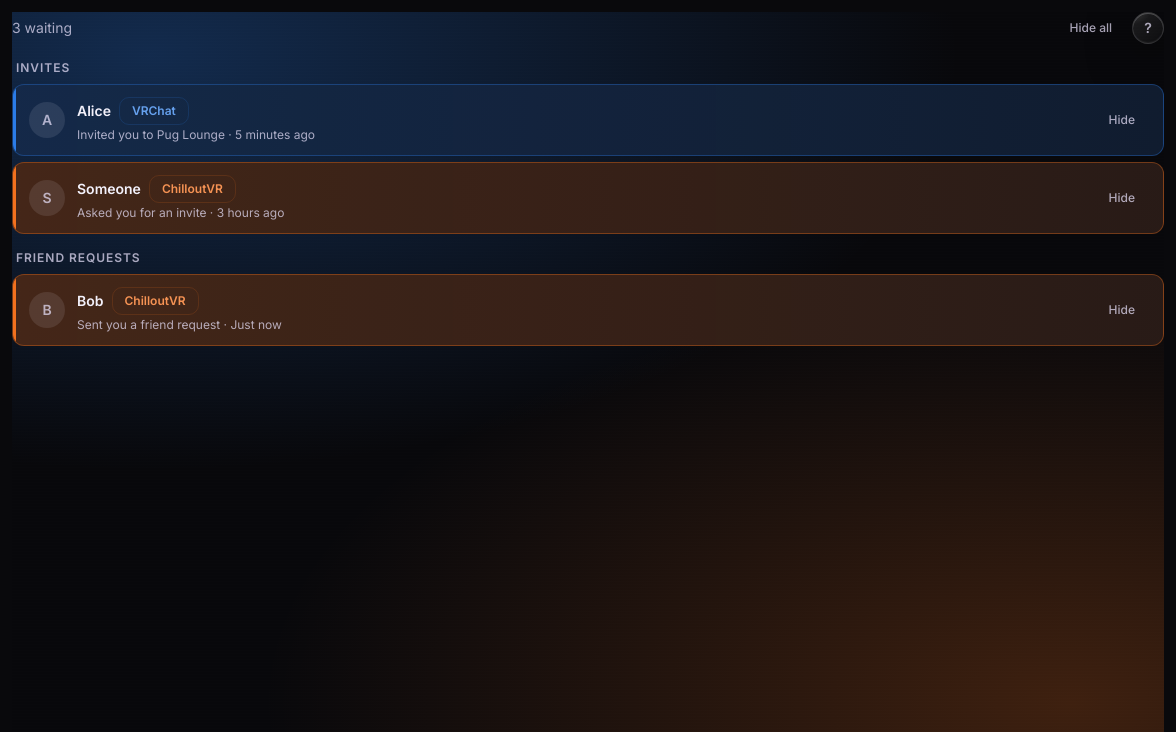
it: InboxView › hides a row in VRX only and keeps focus in the list
Click the button "Hide" in the row of "Alice". click: (1122, 120)
box: x1=1097 y1=108 x2=1147 y2=132
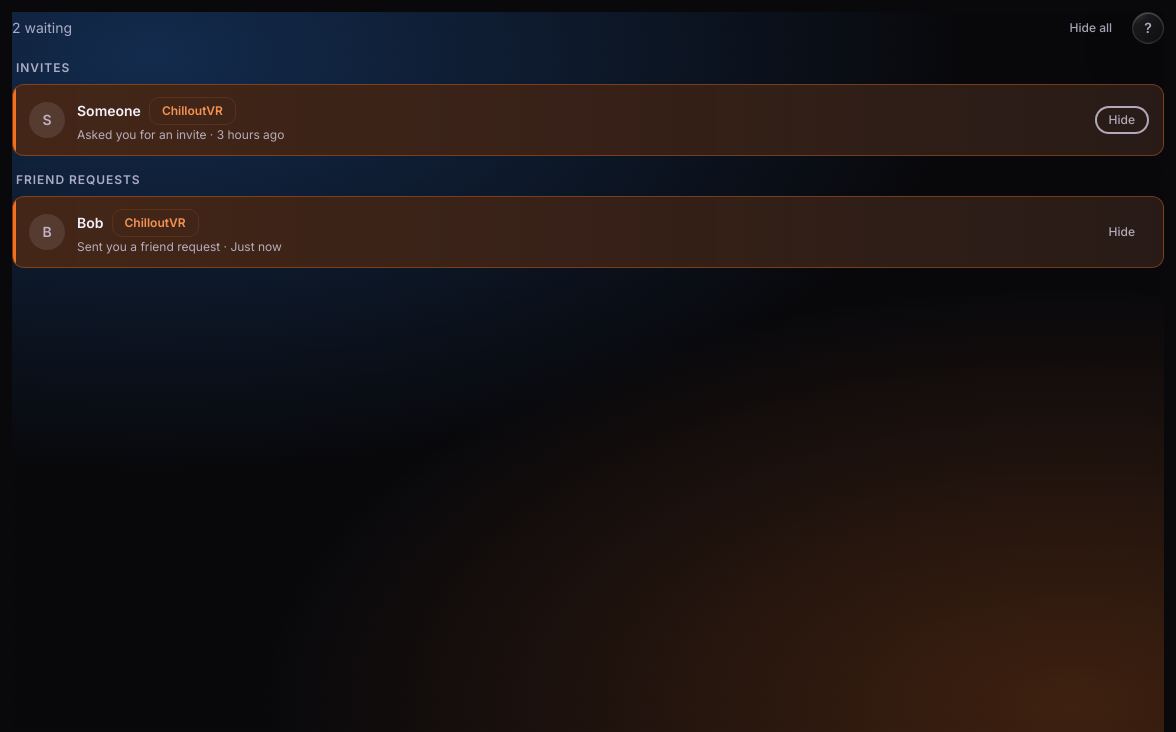
Expected: the text "Alice" is gone
